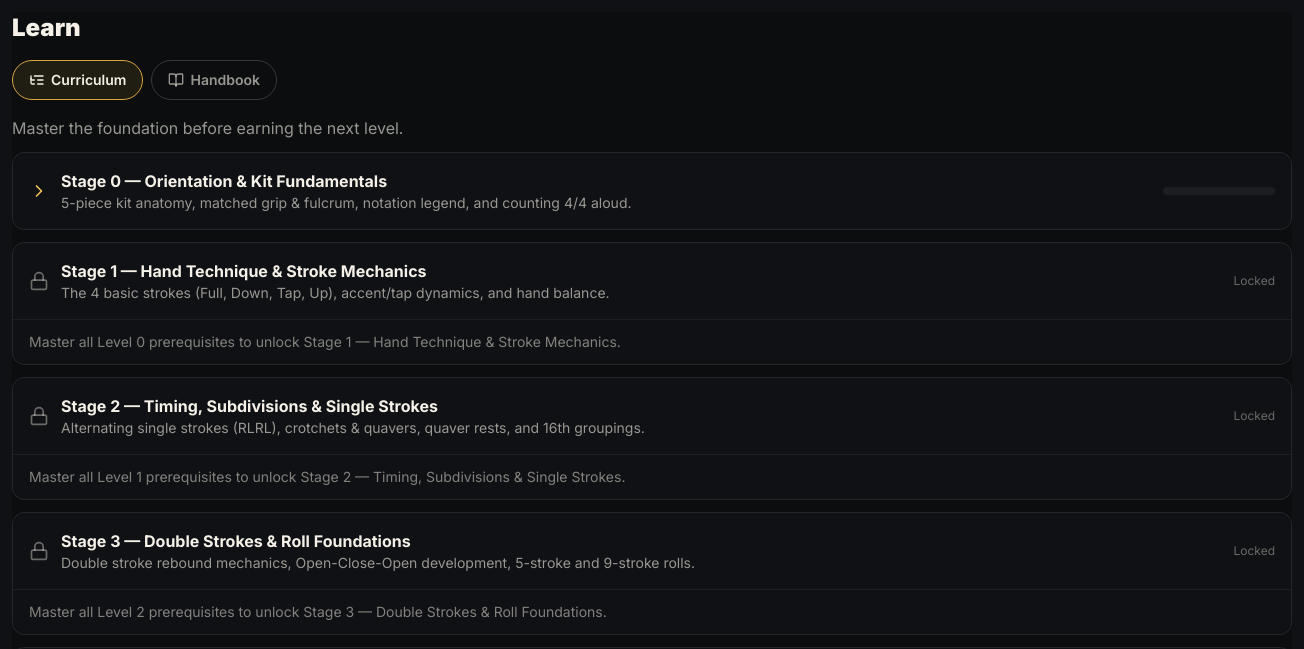
Test case: Curriculum page › shows the first stage-0 exercise as available once expanded
Click the button "Stage 0 — Orientation": (224, 181) x1=13 y1=153 x2=1291 y2=229
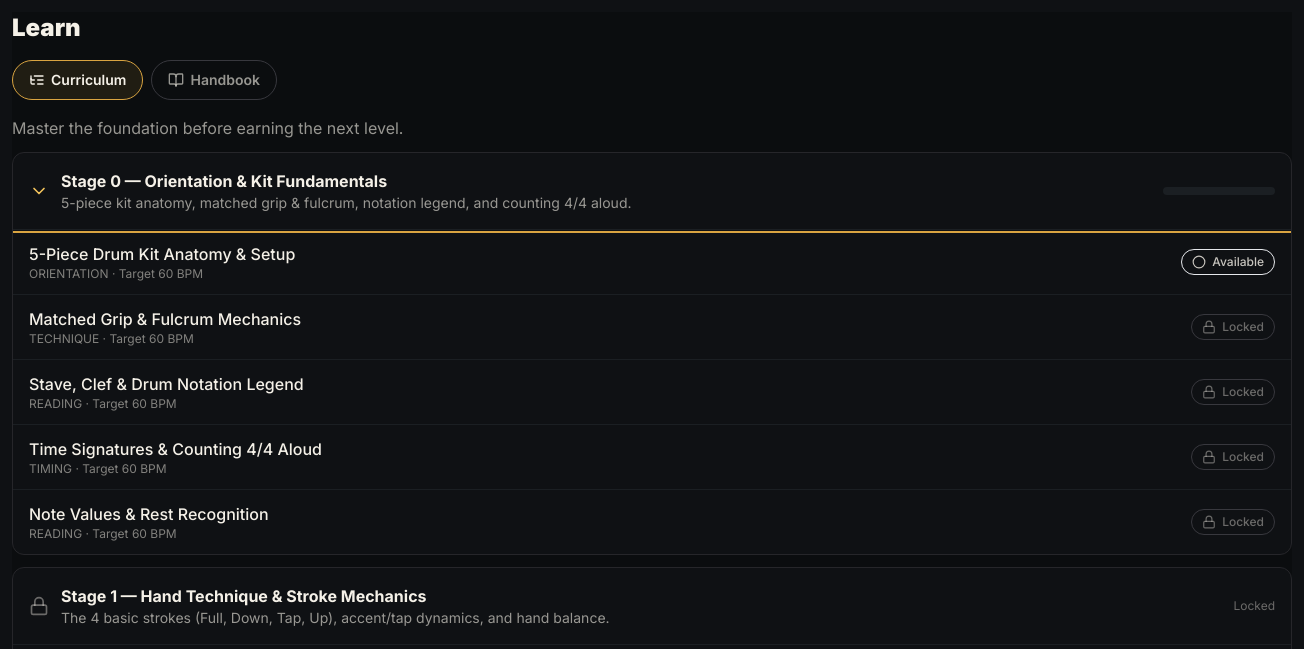
Result: the text "5-Piece Drum Kit Anatomy & Setup" is shown at x1=29 y1=242 x2=295 y2=266
Result: the text "Available" is shown at x1=1181 y1=249 x2=1275 y2=275
